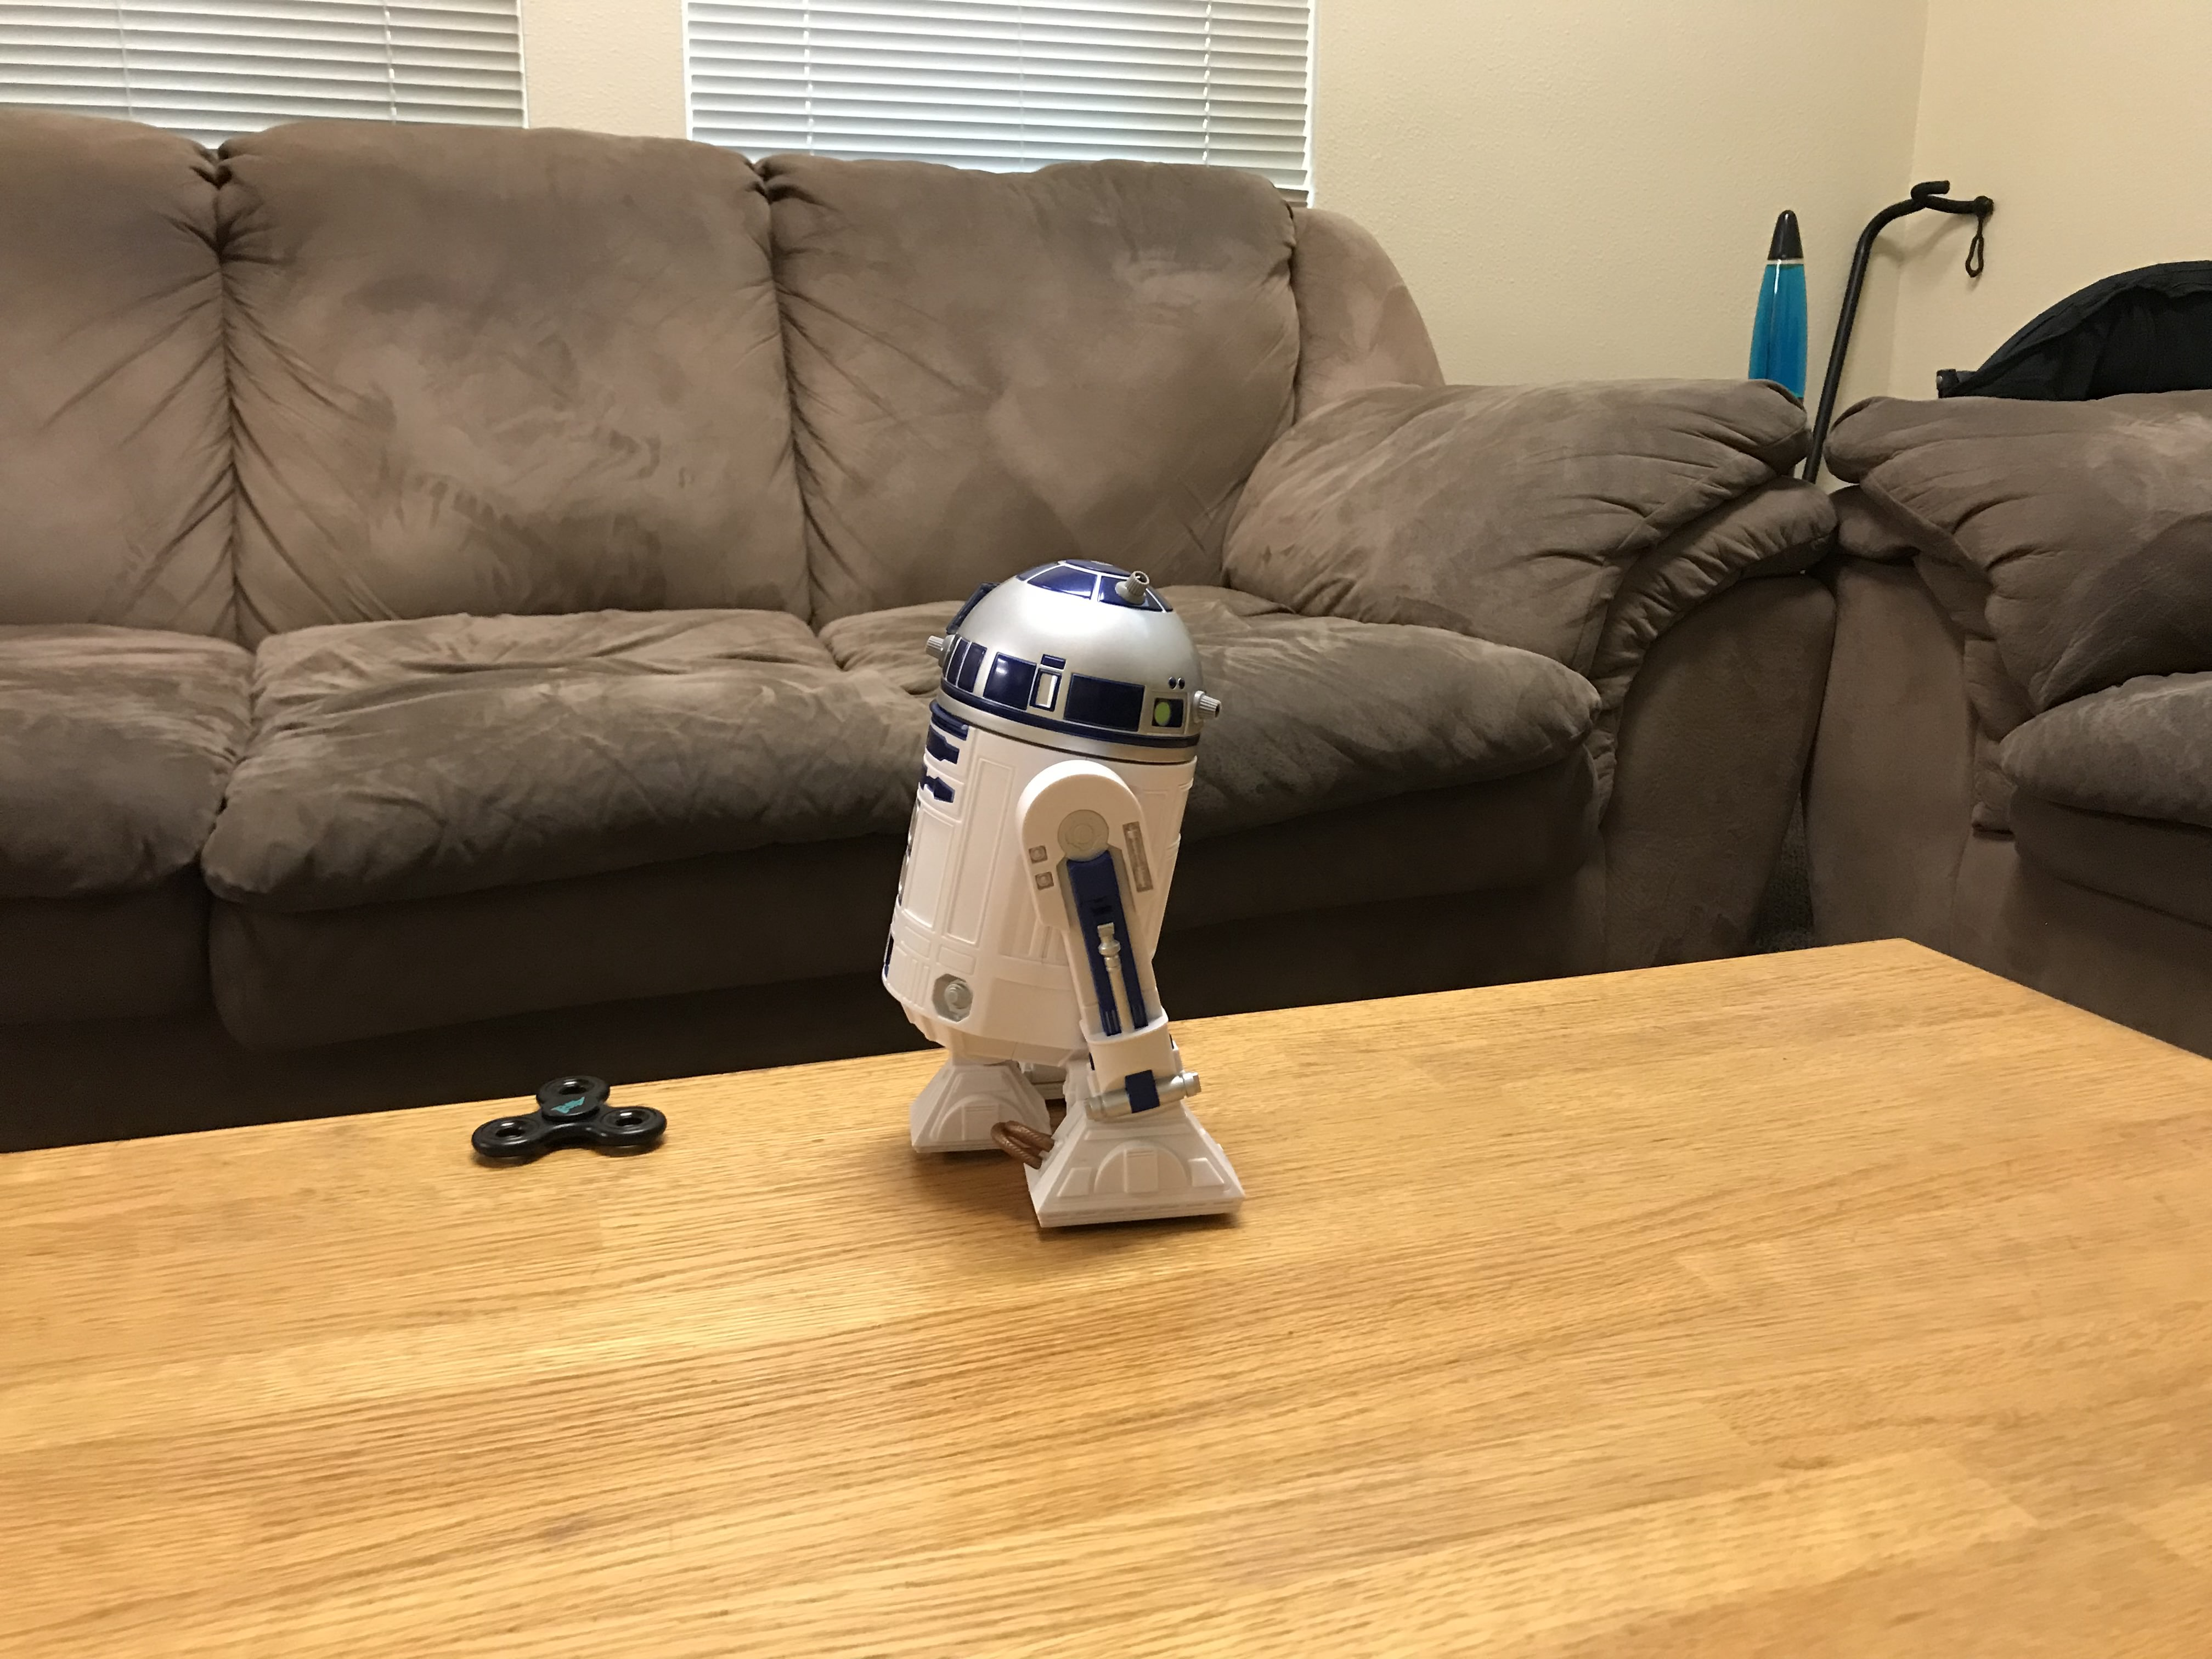r2d2: (880, 558, 1245, 1236)
